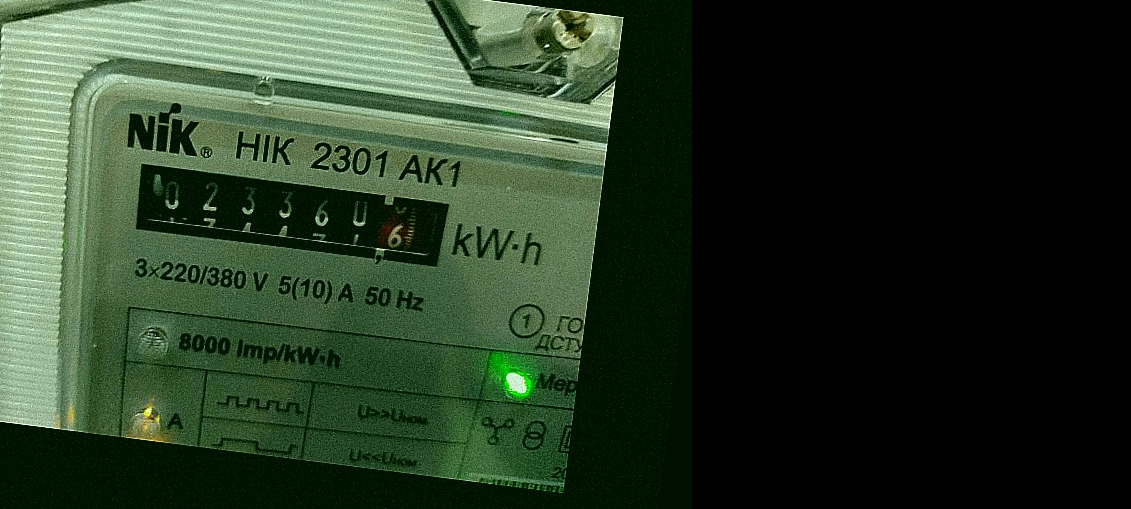0: (158, 175, 183, 211), (349, 195, 369, 228)
2: (196, 177, 223, 214)
3: (234, 182, 259, 216), (273, 186, 296, 219)
6: (308, 193, 332, 227), (381, 218, 406, 249)
screen: (112, 143, 464, 283)
